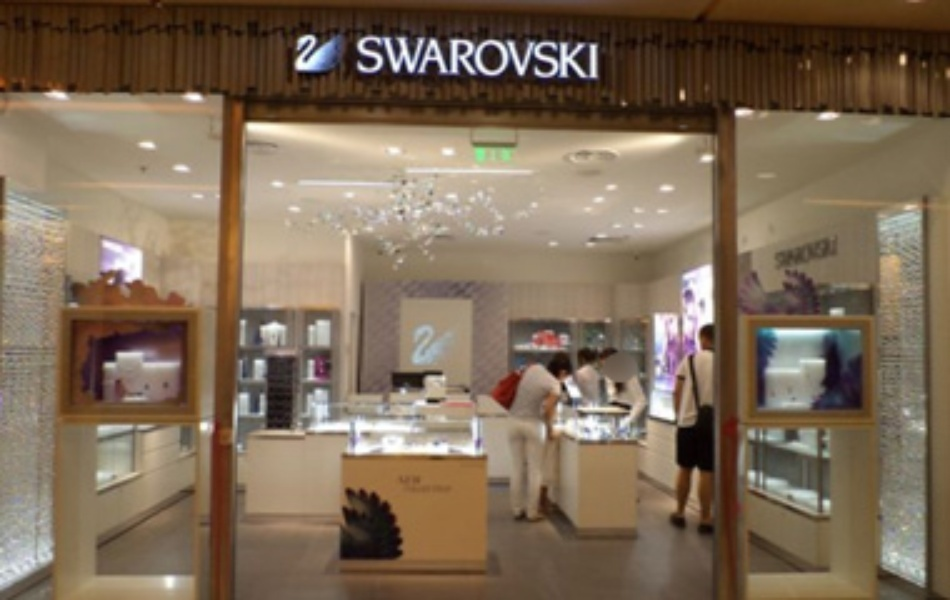text: (369, 33, 384, 81), (385, 33, 400, 81), (401, 33, 416, 81), (417, 33, 432, 81), (433, 33, 448, 81), (449, 33, 464, 81), (465, 33, 480, 81), (481, 33, 496, 81), (497, 33, 512, 81), (513, 33, 528, 81), (529, 33, 544, 81), (545, 33, 560, 81), (561, 33, 576, 81), (577, 33, 592, 81), (785, 233, 800, 273), (801, 233, 816, 273), (817, 233, 832, 273), (356, 33, 368, 81), (773, 233, 784, 273), (593, 33, 601, 81), (833, 233, 841, 273), (401, 476, 416, 496), (417, 476, 432, 496), (433, 476, 448, 496), (449, 476, 461, 496), (393, 476, 400, 496)
